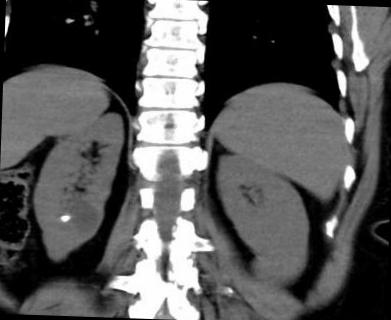Tas_Var: (56, 210, 73, 224)
